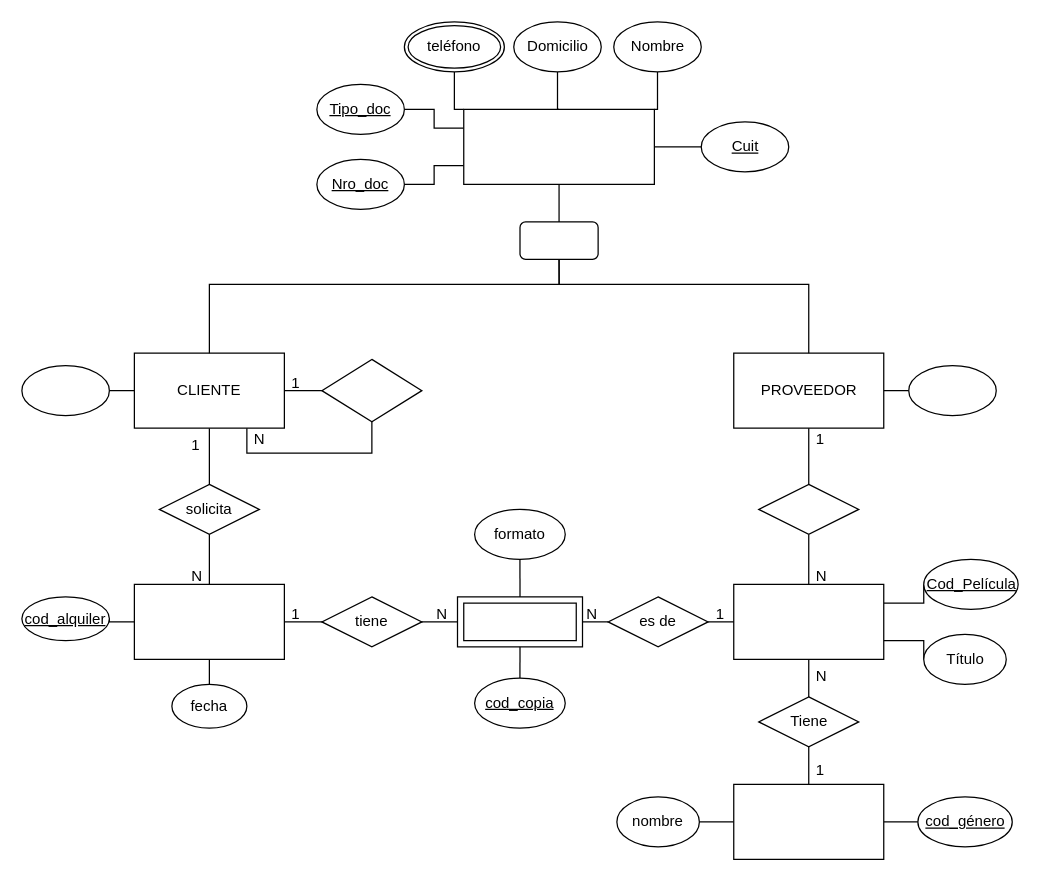
This 1040x881 diagram has some shape labels left out. The box of each missing label's shape, as (x1, y1, x2, y2) in pixels:
ALQUILER: (133, 583, 284, 659)
COPIA: (456, 596, 582, 647)
Edad: (21, 364, 109, 416)
Email: (908, 364, 996, 416)
es extensión de: (321, 358, 422, 422)
GÉNERO: (732, 783, 884, 859)
PELICULA: (732, 583, 884, 659)
PERSONA: (462, 108, 654, 184)
Provee: (758, 483, 859, 534)
Tipo: (519, 221, 598, 259)
